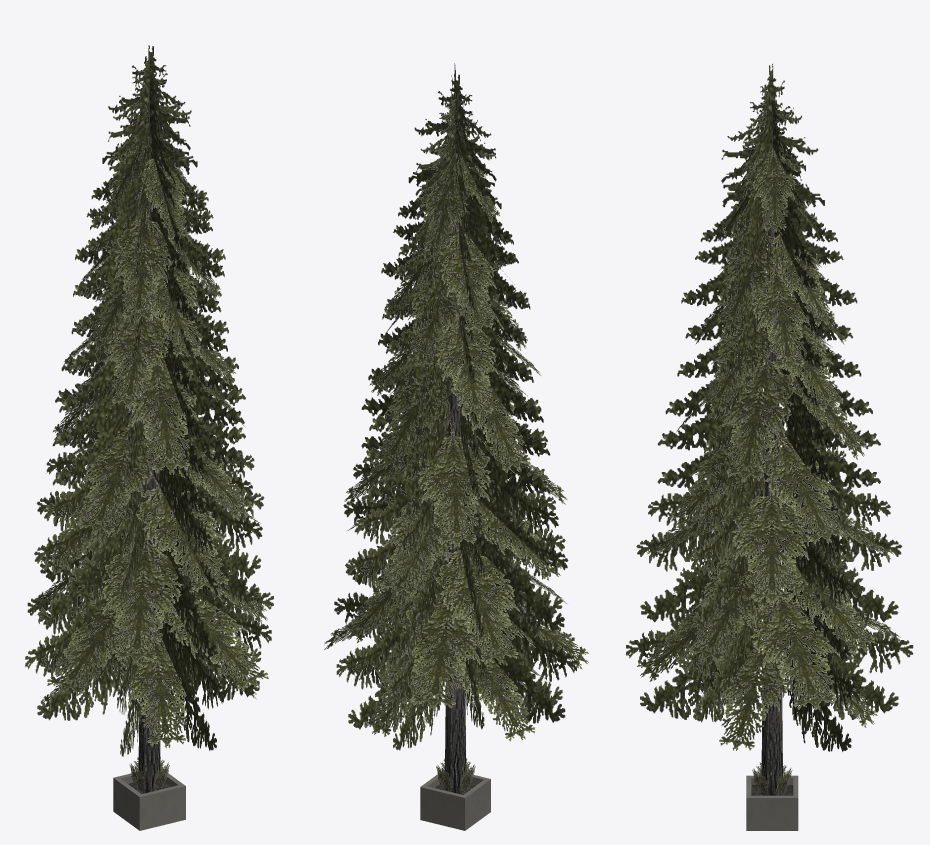
File: tree_1.fbx
The picture shows the model from 3 angles, left to right: view 1: azimuth 30°, elevation 25°; view 2: azimuth 150°, elevation 25°; view 3: azimuth 270°, elevation 25°; orthographic projection. The views are drawn at different scales.
Visible parts, largest first — view 1: tree_1; view 2: tree_1; view 3: tree_1.
Boxes of the visible parts, bbox=[...] form: tree_1: bbox=[25, 45, 273, 830]; tree_1: bbox=[324, 63, 589, 830]; tree_1: bbox=[626, 64, 913, 830].
Bounding box in the file's own units: 545 × 1597 × 556.
